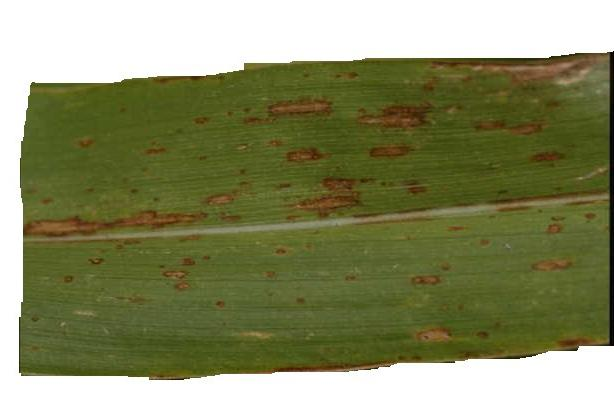leaf_smut: (72, 95, 562, 287)
